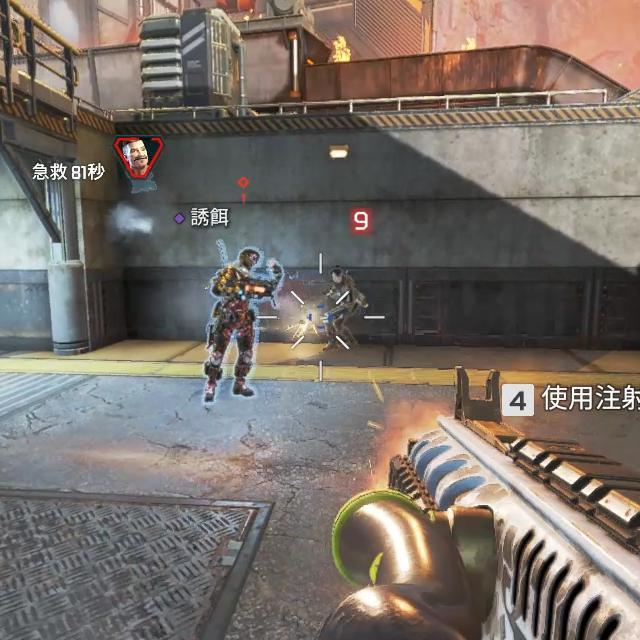avatar: (199, 247, 268, 402), (321, 261, 366, 354)
